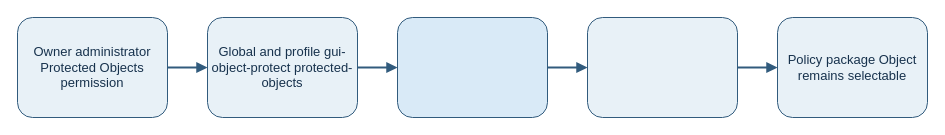
Some shapes in this 945 by 135 pixel diagram are drawn without their labels. The box of each missing label's shape, as (x1, y1, x2, y2) in pixels:
Consumer administrator Read-only definition: (586, 16, 738, 118)
Protected policy/object Definition is guarded: (396, 16, 548, 118)
